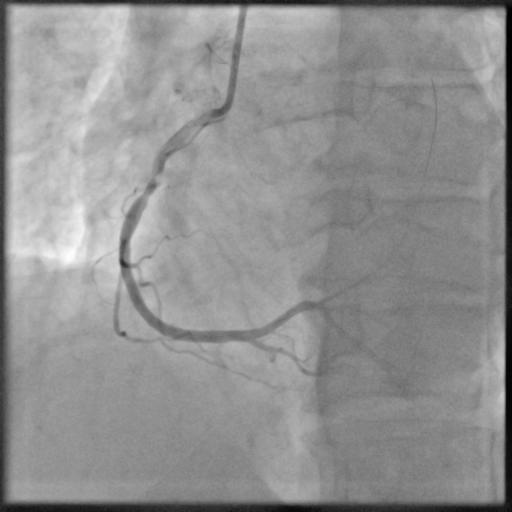Stenosis: (142, 162, 162, 197)
